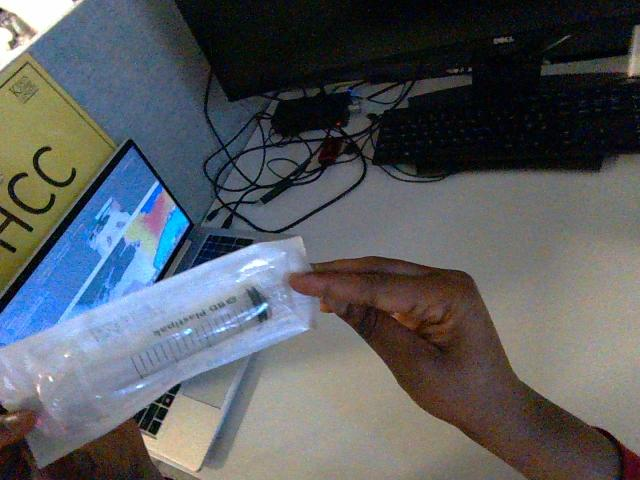syringe: (0, 237, 316, 466)
